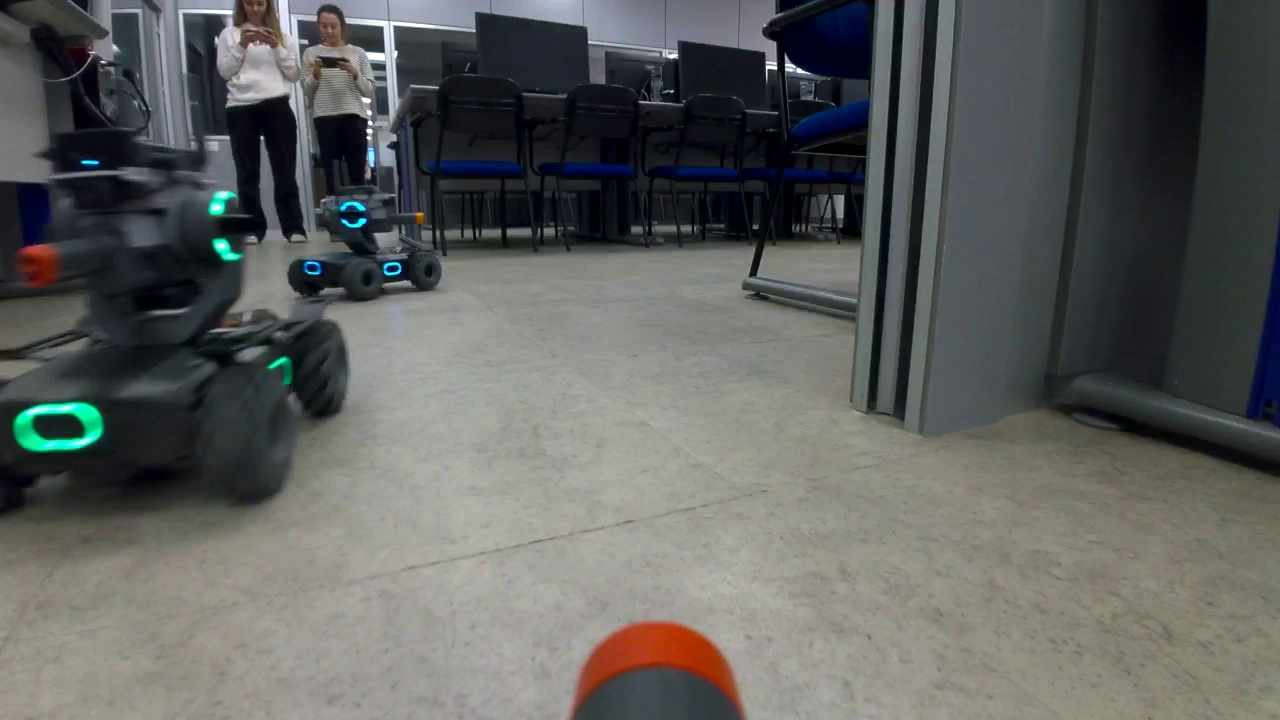robot: (8, 129, 347, 517), (288, 185, 442, 304)
